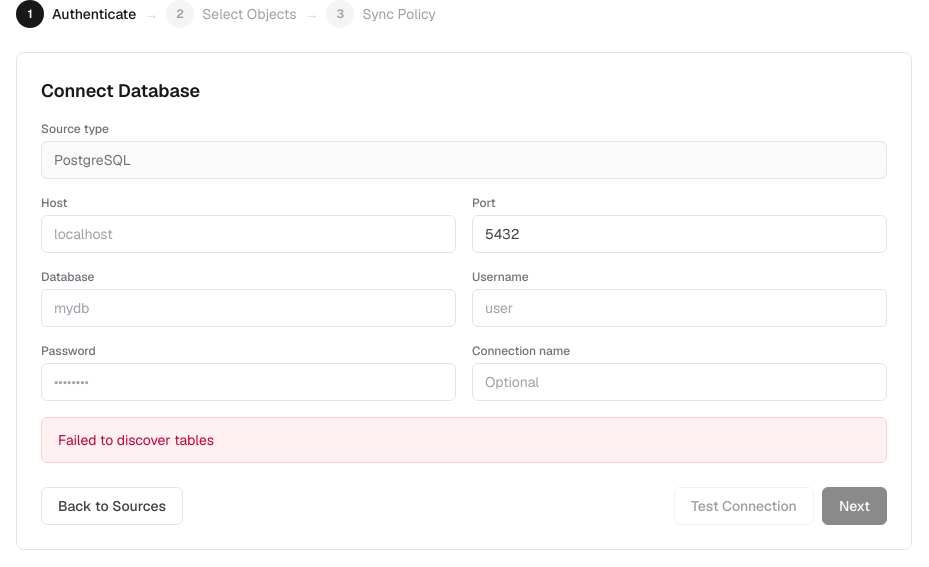
Test case: SourceSetupWizard — DB source (postgresql) › shows error when createConnection throws
The width and height of the screenshot is (929, 567).
In the field with placeholder "localhost": (248, 234) left=41, top=215, right=456, bottom=253, type "host"
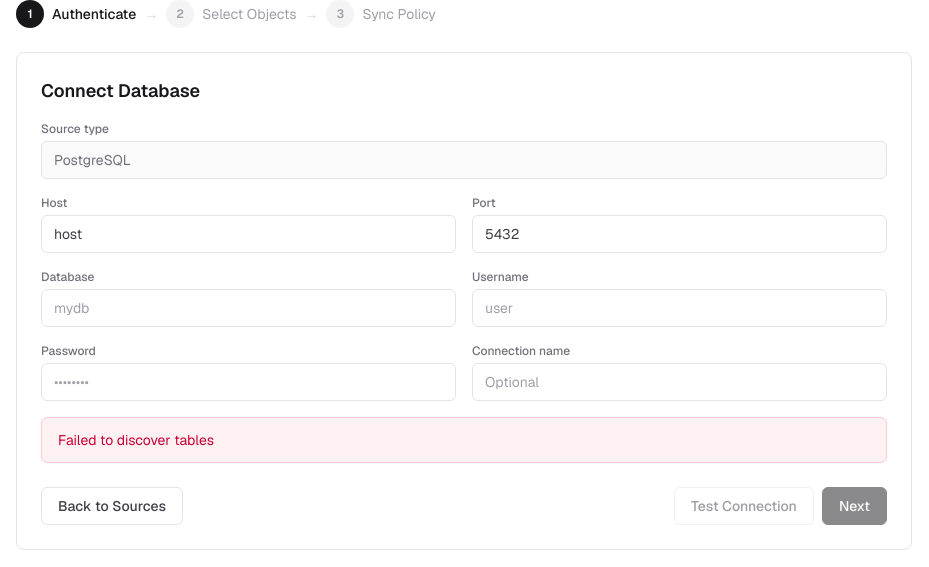
In the field with placeholder "mydb": (248, 308) left=41, top=289, right=456, bottom=327, type "db"
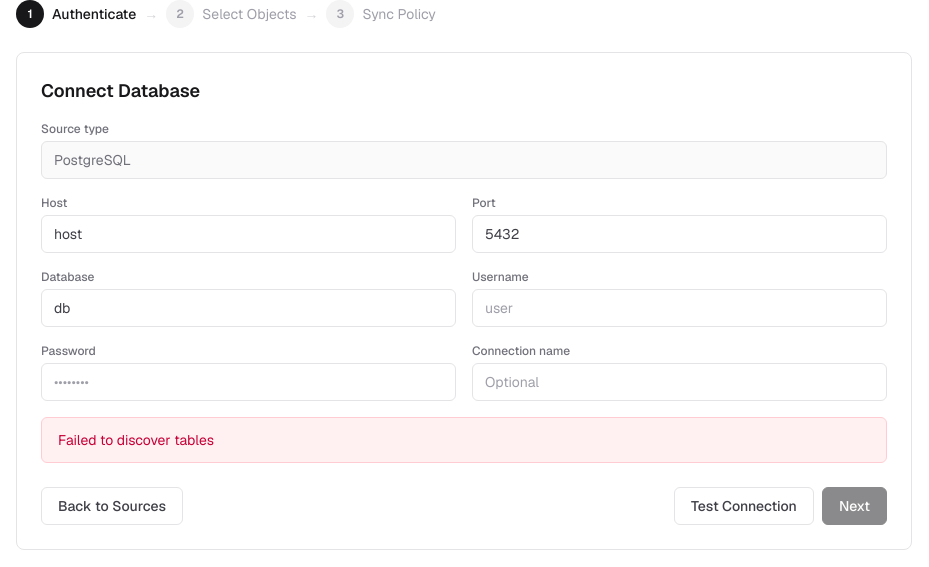
Click the button "Test Connection": (744, 506) left=674, top=487, right=814, bottom=525
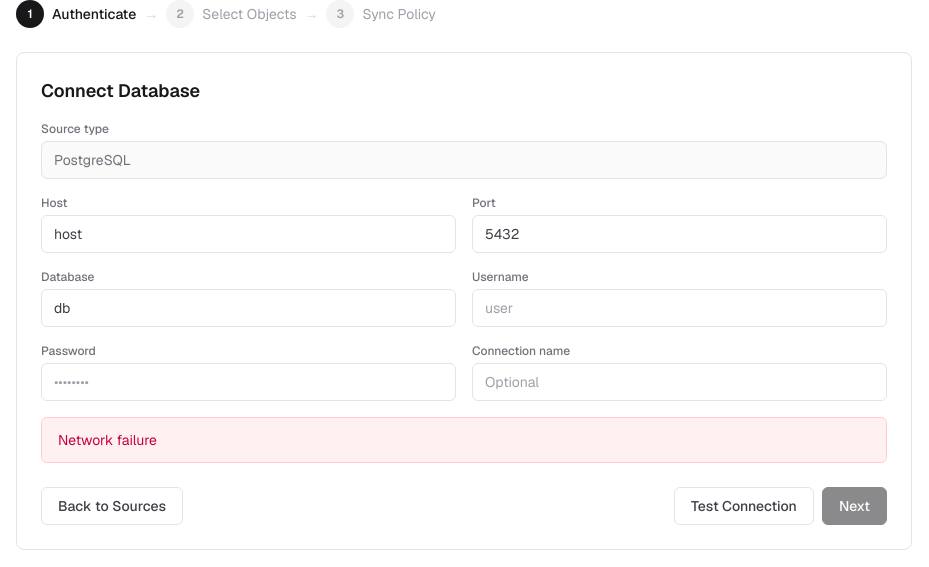
expect the text "Network failure" is shown: met, box left=41, top=417, right=887, bottom=463
